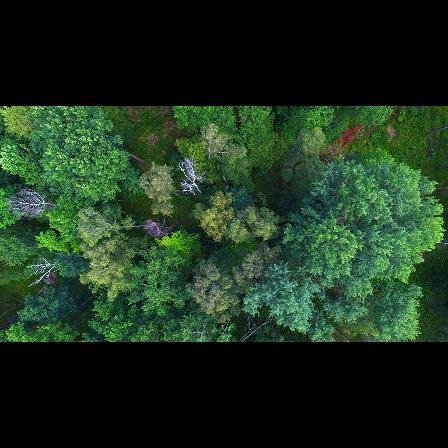Dead: (6, 185, 58, 220), (24, 257, 59, 294), (175, 157, 206, 197), (143, 215, 175, 240)
